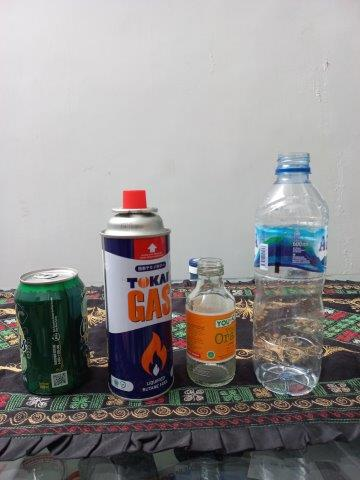botolkaca: (186, 258, 238, 389)
botolplastik: (254, 153, 328, 395)
kaleng: (101, 190, 174, 396), (16, 267, 89, 397)
